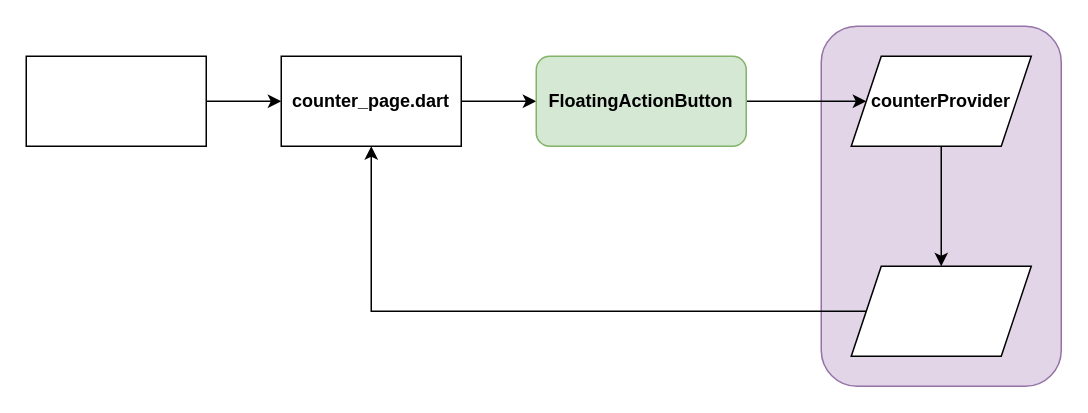
Image size: 1088x413. Some labels were removed from this diagram. Each missing label, with the box of its shape:
main.dart: (25, 55, 206, 146)
State: (850, 265, 1031, 356)
